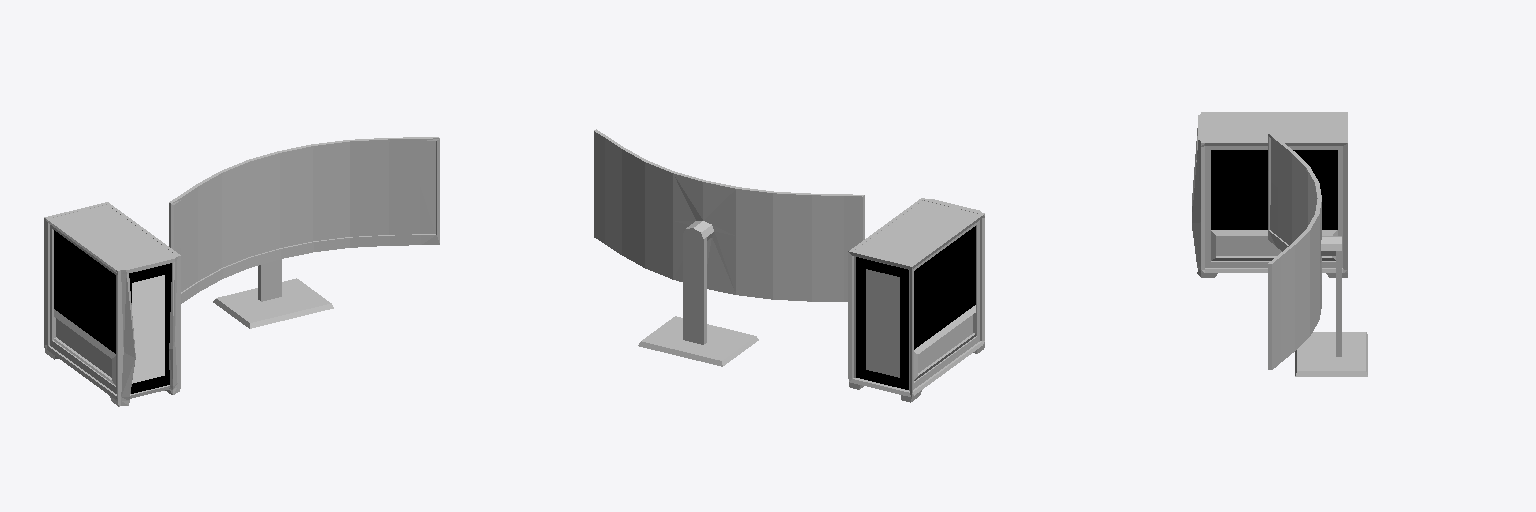
File: GamingPc.obj
The picture shows the model from 3 angles: view 1: azimuth 30°, elevation 25°; view 2: azimuth 150°, elevation 25°; view 3: azimuth 270°, elevation 25°; orthographic projection.
Visible parts, largest first — view 1: Plane.001_Plane.003, Cube.001_Cube.002, Cube.007, Cube.005, Cube.004, Cube.002_Cube.001, Cube.003, Cube; view 2: Plane.001_Plane.003, Cube.007, Cube.001_Cube.002, Cube.005, Cube.004, Cube.003, Cube.002_Cube.001, Cube; view 3: Plane.001_Plane.003, Cube.007, Cube.001_Cube.002, Cube.005, Cube, Cube.002_Cube.001.
Boxes of the visible parts, box(x1,y1,x2,y2) form: Plane.001_Plane.003: box(169, 137, 439, 328); Cube.001_Cube.002: box(44, 202, 180, 406); Cube.007: box(54, 230, 115, 353); Cube.005: box(50, 205, 174, 268); Cube.004: box(132, 275, 164, 383); Cube.002_Cube.001: box(54, 309, 115, 385); Cube.003: box(129, 263, 171, 393); Cube: box(50, 225, 116, 393); Plane.001_Plane.003: box(594, 129, 864, 366); Cube.007: box(914, 226, 975, 349); Cube.001_Cube.002: box(848, 198, 984, 402); Cube.005: box(854, 200, 979, 263); Cube.004: box(866, 269, 899, 377); Cube.003: box(856, 257, 908, 389); Cube.002_Cube.001: box(914, 305, 975, 380); Cube: box(854, 220, 979, 390); Plane.001_Plane.003: box(1268, 133, 1367, 376); Cube.007: box(1211, 150, 1337, 229); Cube.001_Cube.002: box(1192, 112, 1347, 277); Cube.005: box(1205, 114, 1342, 140); Cube: box(1205, 146, 1342, 267); Cube.002_Cube.001: box(1211, 230, 1337, 260).
Bounding box in the file's own units: 5.78 × 2.45 × 2.49.